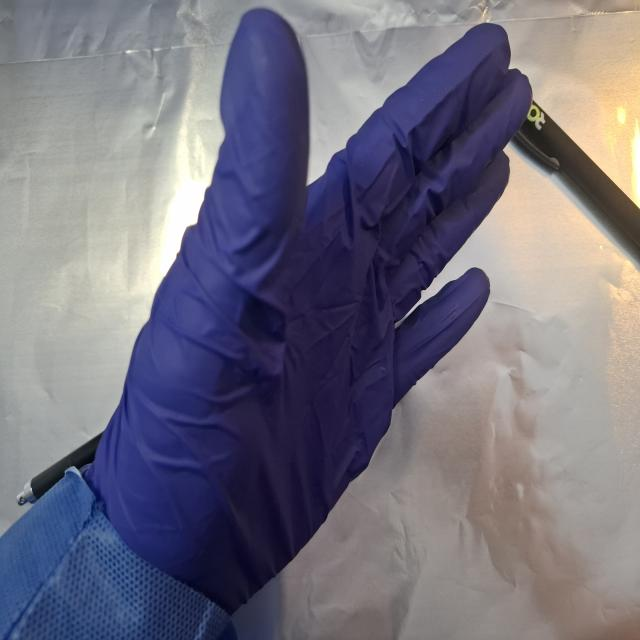glove_on: (73, 4, 537, 616)
